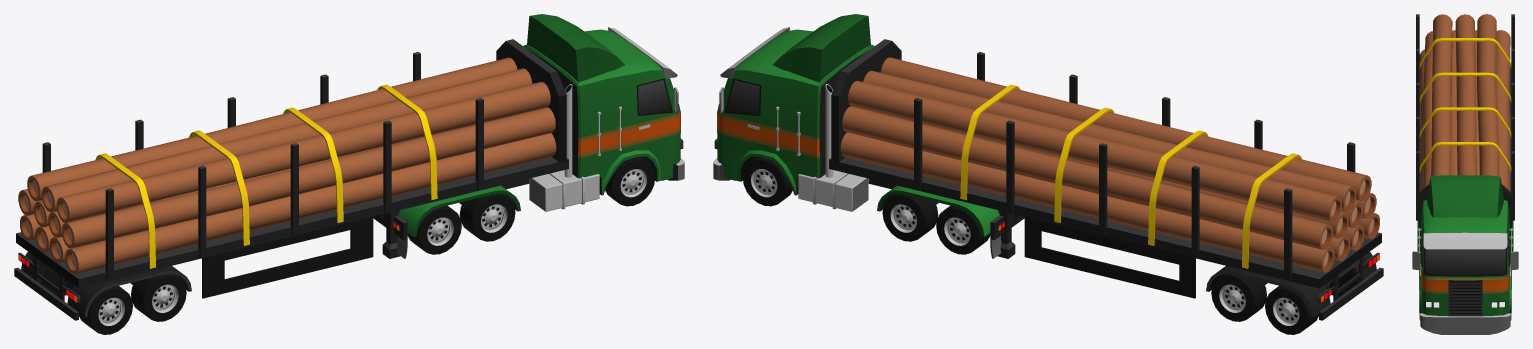
Rendered from Truck_008.glb.
The picture shows the model from 3 angles, left to right: view 1: azimuth 30°, elevation 25°; view 2: azimuth 150°, elevation 25°; view 3: azimuth 270°, elevation 25°; orthographic projection. The views are drawn at different scales.
Visible parts, largest first — view 1: Truck_008, wheel_3_Truck_008_Wheel_2R, wheel_7_Truck_008_Wheel_4R, wheel_1_Truck_008_Wheel_1R, wheel_5_Truck_008_Wheel_3R, wheel_9_Truck_008_Wheel_5R; view 2: Truck_008, wheel_2_Truck_008_Wheel_2L, wheel_6_Truck_008_Wheel_4L, wheel_0_Truck_008_Wheel_1L, wheel_4_Truck_008_Wheel_3L, wheel_8_Truck_008_Wheel_5L; view 3: Truck_008.
Part boxes in pixels (x1,y1,x2,y2): Truck_008: (14,14,684,320); wheel_3_Truck_008_Wheel_2R: (459,193,515,241); wheel_7_Truck_008_Wheel_4R: (131,274,186,321); wheel_1_Truck_008_Wheel_1R: (605,156,655,206); wheel_5_Truck_008_Wheel_3R: (407,205,461,254); wheel_9_Truck_008_Wheel_5R: (79,286,132,334); Truck_008: (713,14,1383,320); wheel_2_Truck_008_Wheel_2L: (882,193,938,241); wheel_6_Truck_008_Wheel_4L: (1211,274,1266,321); wheel_0_Truck_008_Wheel_1L: (742,156,792,206); wheel_4_Truck_008_Wheel_3L: (936,205,990,254); wheel_8_Truck_008_Wheel_5L: (1265,286,1318,334); Truck_008: (1412,14,1518,334).
Bounding box in the file's own units: 13.43 × 3.45 × 2.66.
2 materials, 2 textured.
